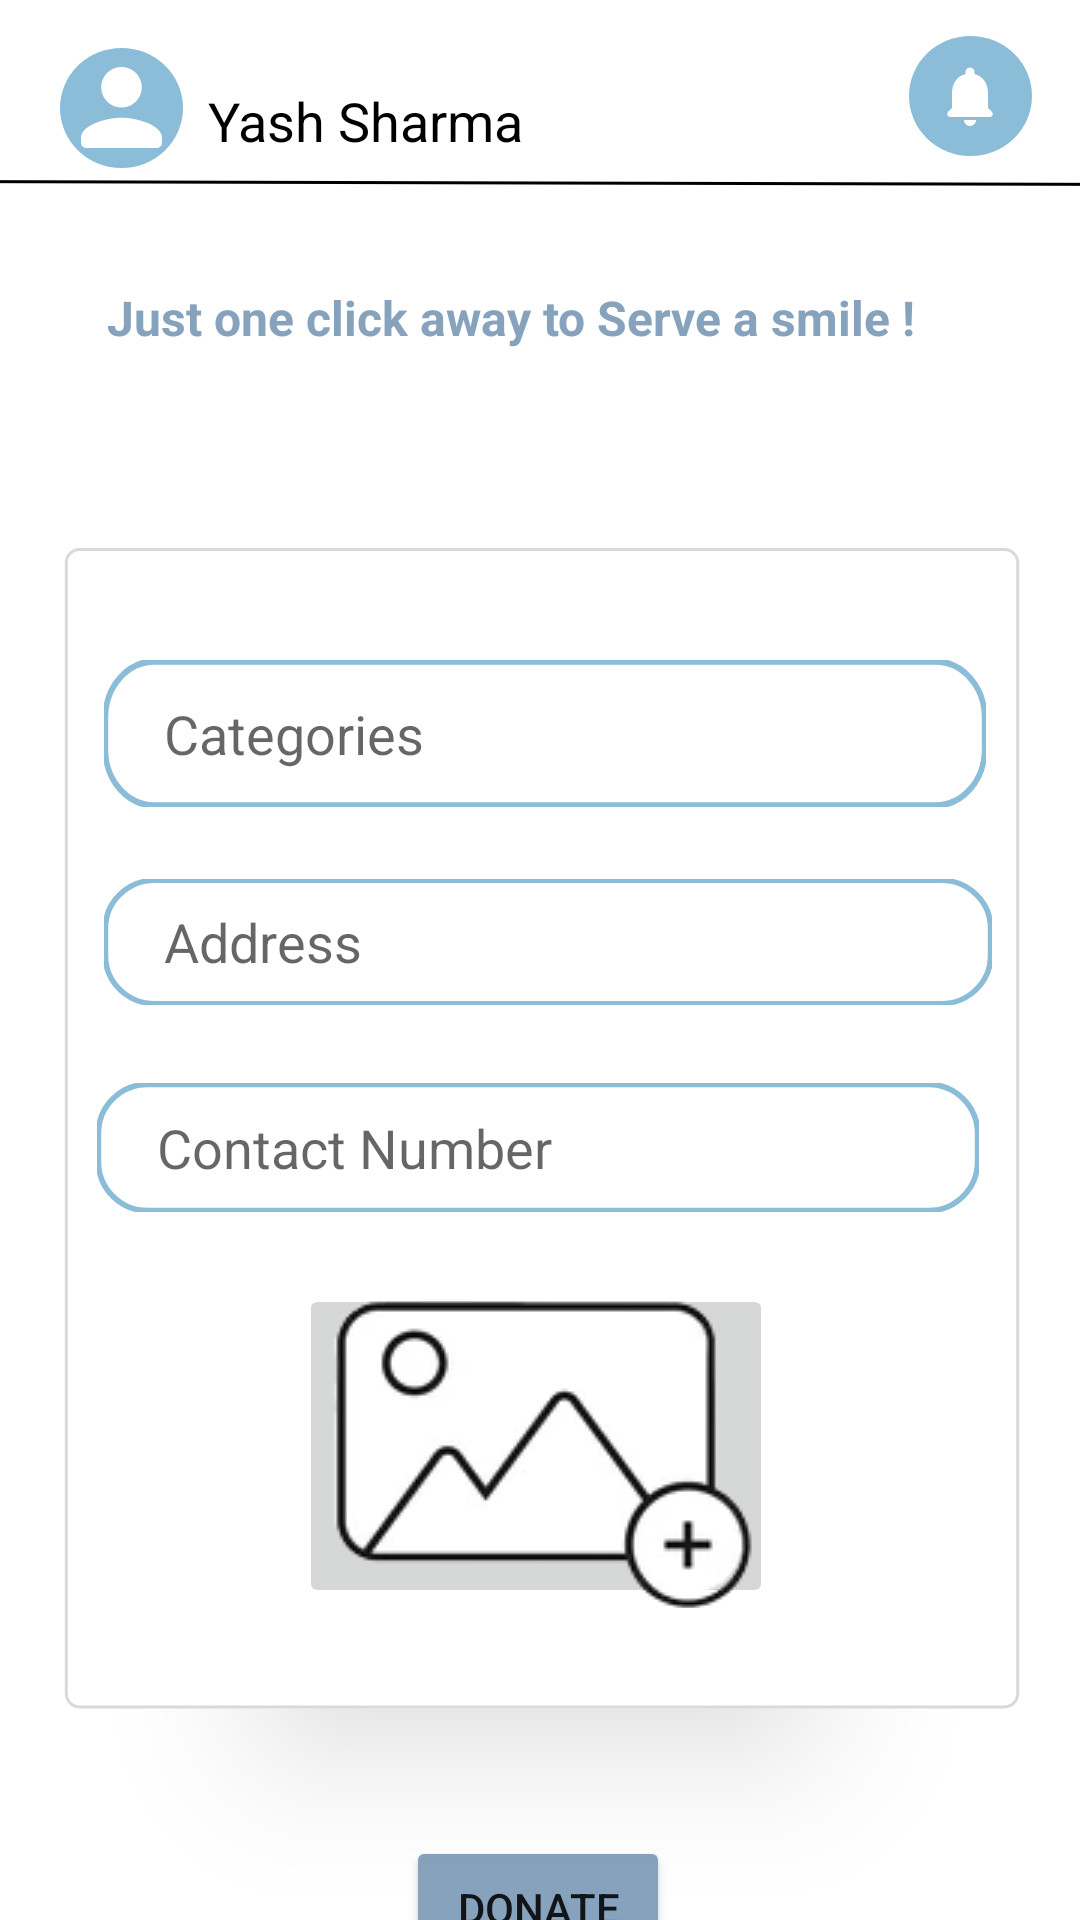

Screen size 1080 x 1920. Icon name, then its center in pixels as (x=x, y=y):
notification: (x=970, y=96)
profile: (x=121, y=108)
